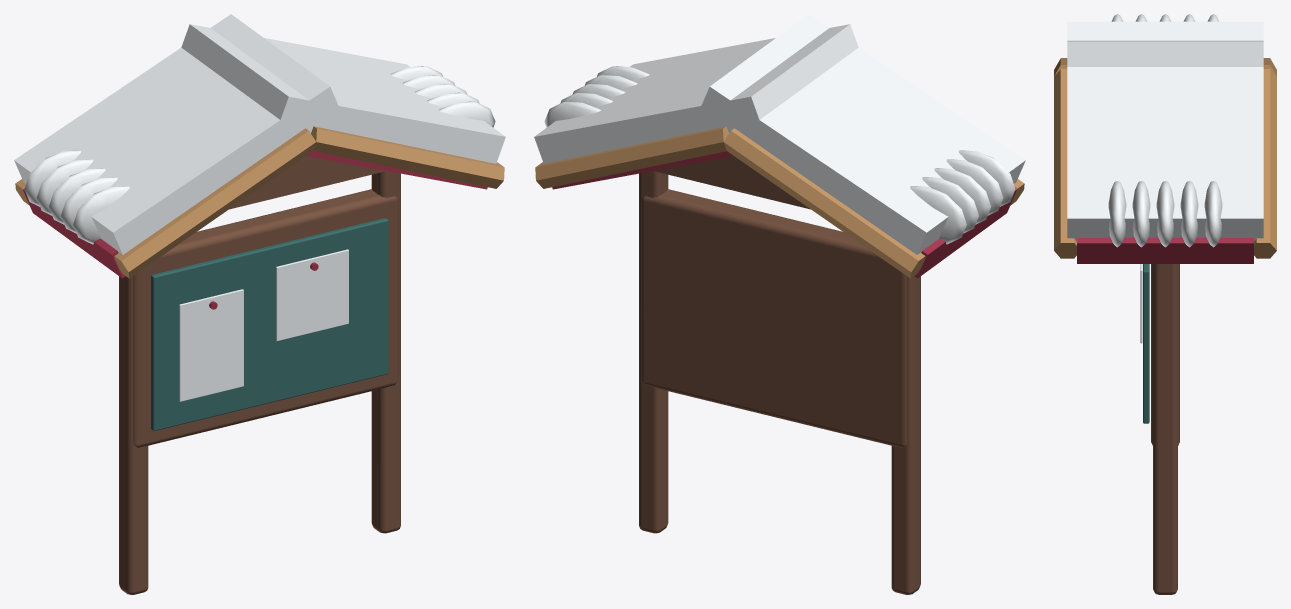
File: alpine-snow-village-snowy-community-noticeboard-4c0e9bd5__19811.glb
The picture shows the model from 3 angles, left to right: view 1: azimuth 30°, elevation 25°; view 2: azimuth 150°, elevation 25°; view 3: azimuth 270°, elevation 25°; orthographic projection.
Parts seen in each view (by area): view 1: snowy-community-noticeboard-snow, snowy-community-noticeboard-wood, snowy-community-noticeboard-pine, snowy-community-noticeboard-oak, snowy-community-noticeboard-berry; view 2: snowy-community-noticeboard-wood, snowy-community-noticeboard-snow, snowy-community-noticeboard-oak, snowy-community-noticeboard-berry; view 3: snowy-community-noticeboard-snow, snowy-community-noticeboard-wood, snowy-community-noticeboard-oak, snowy-community-noticeboard-berry, snowy-community-noticeboard-pine.
Part boxes in pixels (<box>): snowy-community-noticeboard-snow: <box>14,14,505,401</box>; snowy-community-noticeboard-wood: <box>119,156,400,594</box>; snowy-community-noticeboard-pine: <box>151,218,388,430</box>; snowy-community-noticeboard-oak: <box>15,126,504,278</box>; snowy-community-noticeboard-berry: <box>22,151,487,309</box>; snowy-community-noticeboard-wood: <box>639,156,920,594</box>; snowy-community-noticeboard-snow: <box>534,14,1025,254</box>; snowy-community-noticeboard-oak: <box>535,126,1024,278</box>; snowy-community-noticeboard-berry: <box>552,151,1017,278</box>; snowy-community-noticeboard-snow: <box>1067,14,1263,343</box>; snowy-community-noticeboard-wood: <box>1151,264,1179,594</box>; snowy-community-noticeboard-oak: <box>1054,58,1276,258</box>; snowy-community-noticeboard-berry: <box>1077,238,1253,263</box>; snowy-community-noticeboard-pine: <box>1143,264,1149,423</box>.
Size of the model in its own units: 2.51 by 2.87 by 1.16.
